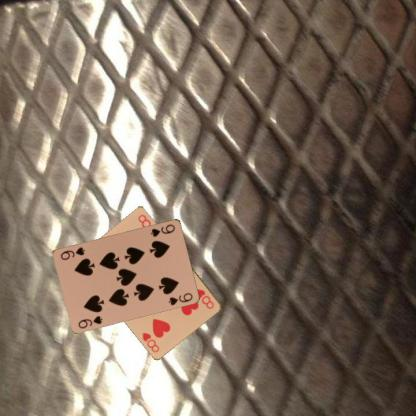8h: (194, 286, 216, 310)
9s: (149, 221, 176, 238), (76, 313, 104, 329)
